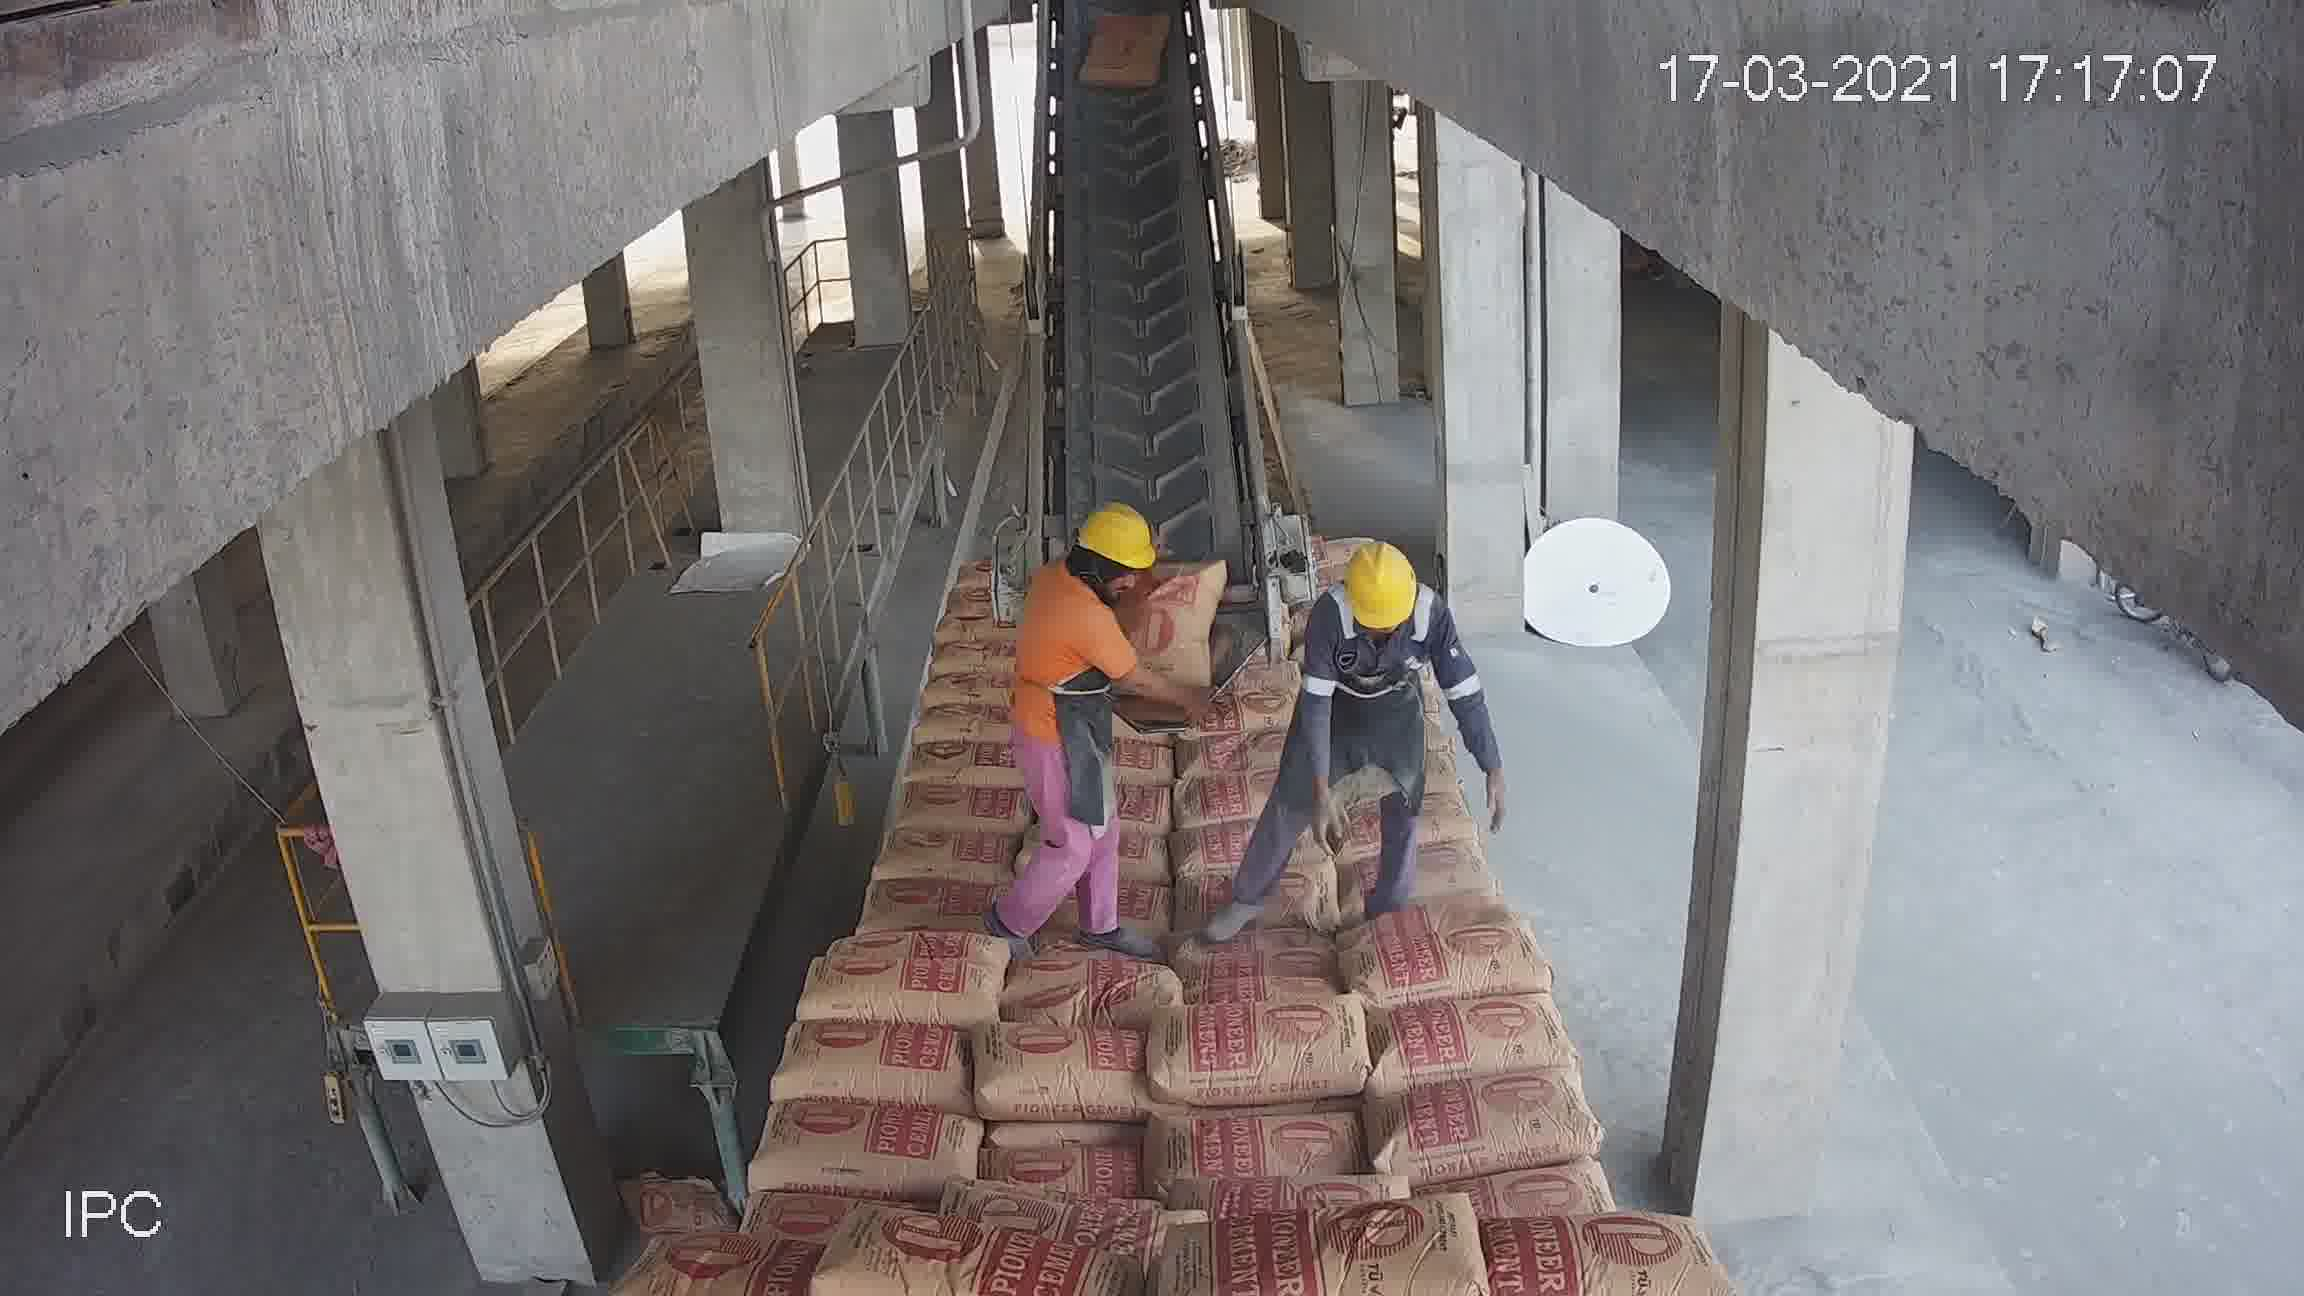bag: (1082, 14, 1165, 89)
bag_h: (1157, 1207, 1489, 1296), (1161, 994, 1388, 1109), (1361, 1068, 1608, 1171), (821, 1211, 1119, 1294), (748, 1097, 984, 1201), (1364, 983, 1570, 1100), (1454, 1204, 1700, 1291), (1407, 1131, 1612, 1233), (1343, 915, 1540, 1014), (1146, 1100, 1369, 1187), (767, 1017, 984, 1101), (975, 1021, 1150, 1124), (805, 953, 999, 1030), (642, 1225, 839, 1294), (1337, 836, 1502, 911), (999, 924, 1173, 995), (1192, 904, 1361, 968), (976, 1144, 1158, 1201), (873, 820, 1019, 881), (829, 927, 1008, 972), (902, 731, 1019, 793), (896, 775, 1033, 828), (862, 870, 997, 923), (1168, 725, 1282, 779), (1166, 771, 1271, 828), (907, 696, 1010, 736)
bag_v: (1130, 549, 1233, 688)
belt: (1014, 14, 1264, 649)
